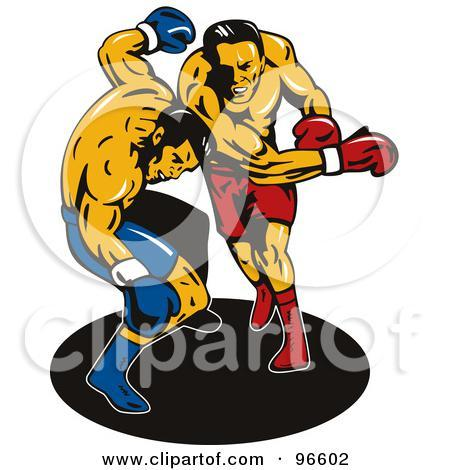person: (176, 19, 401, 377), (59, 4, 223, 418)
